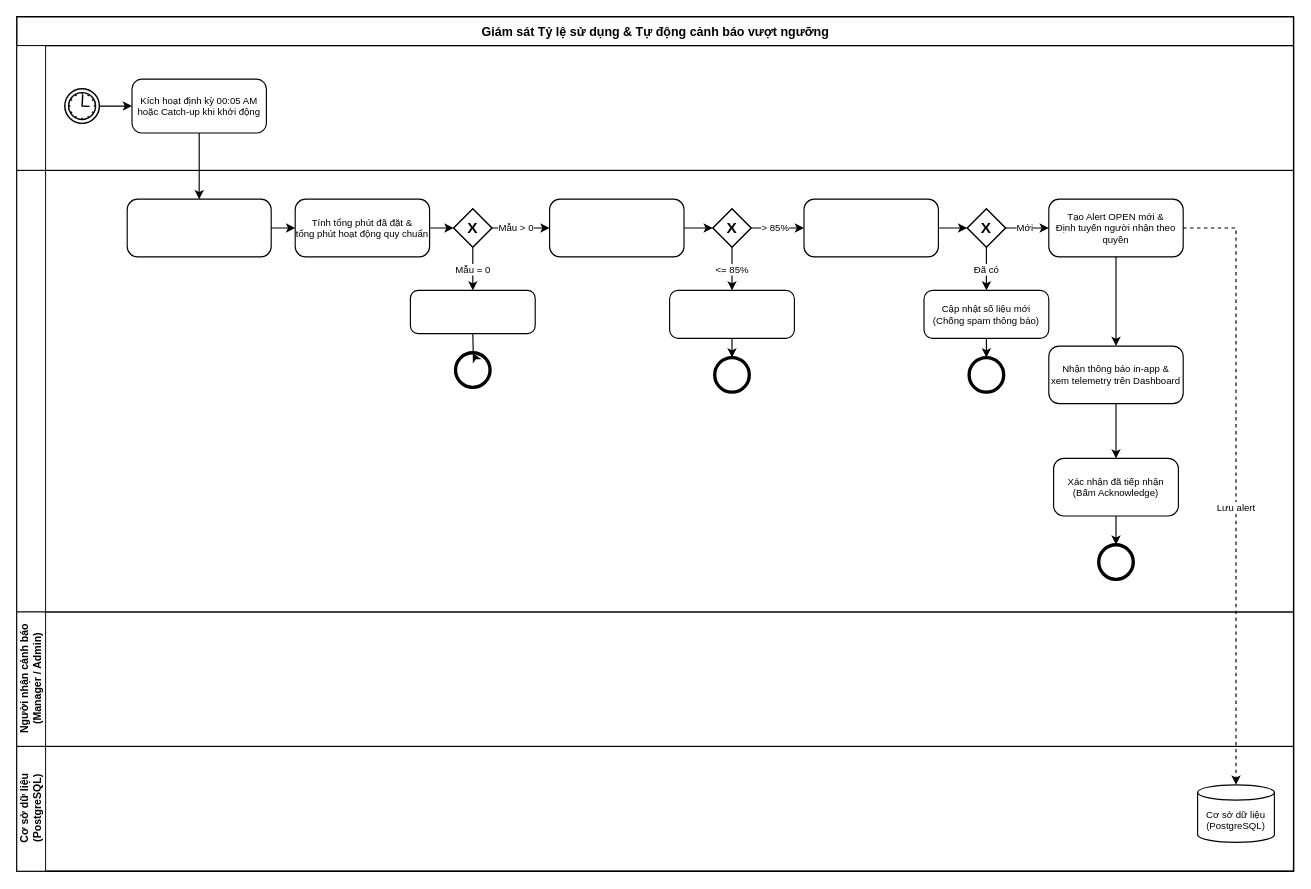
This 1311x889 diagram has some shape labels left out. The box of each missing label's shape, as (x1, y1, x2, y2) in pixels:
Bộ lập lịch (Spring Scheduler): (16, 45, 1294, 170)
Hệ thống Phân tích Alloca (Analytics & Alert Service): (16, 169, 1294, 612)
Kiểm tra cảnh báo đang active (OPEN / ACKNOWLEDGED): (803, 198, 938, 257)
Mẫu số = 0: Ghi nhận N/A & Bỏ qua: (409, 289, 535, 334)
Nếu có alert active: Tự động đóng RATE_NORMALIZED: (669, 289, 794, 338)
So sánh tỷ lệ sử dụng với ngưỡng quy định (> 85%): (549, 198, 684, 257)
Truy vấn danh mục tài nguyên & khung giờ hoạt động (7 ngày qua): (126, 198, 271, 257)
